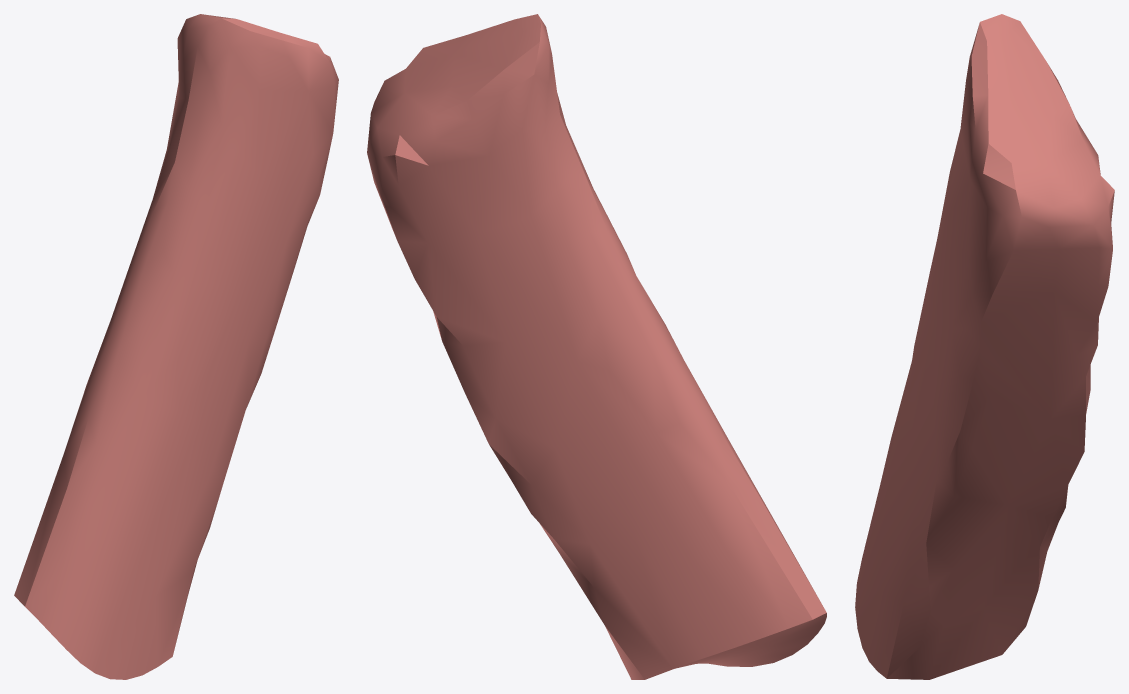
Rendered from fma38680-o_mm1847.glb.
3 views of the same model, side by side, from view 1: azimuth 30°, elevation 25°; view 2: azimuth 150°, elevation 25°; view 3: azimuth 270°, elevation 25° (orthographic). The views are drawn at different scales.
Visible parts, largest first — view 1: FMA38680-O_MM1847; view 2: FMA38680-O_MM1847; view 3: FMA38680-O_MM1847.
Part boxes in pixels (x1,y1,x2,y2): FMA38680-O_MM1847: (14,14,338,679); FMA38680-O_MM1847: (367,14,826,679); FMA38680-O_MM1847: (855,14,1114,679).
Size of the model in its own units: 0.0119 by 0.0188 by 0.0062.
